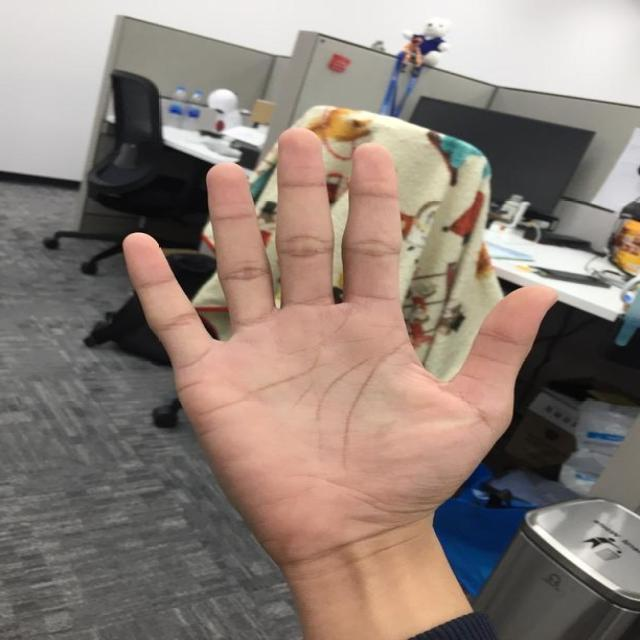hand: (122, 123, 556, 568)
